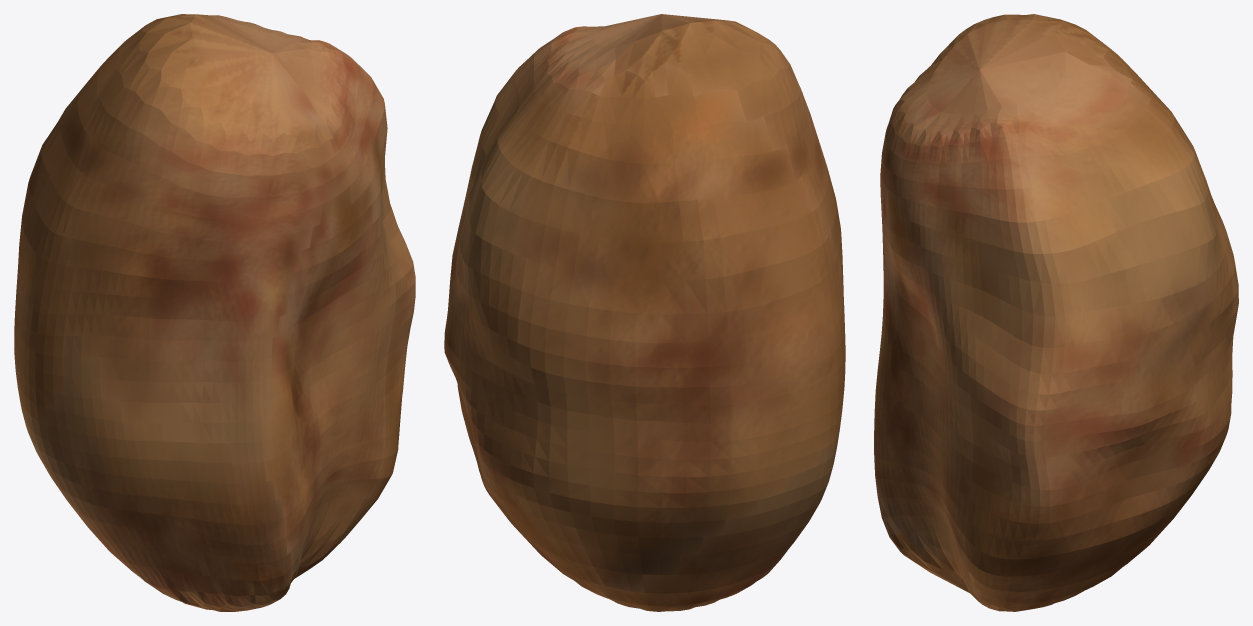
The model's file is potat.obj.
3 views of the same model, side by side, from view 1: azimuth 30°, elevation 25°; view 2: azimuth 150°, elevation 25°; view 3: azimuth 270°, elevation 25° (orthographic). The views are drawn at different scales.
Visible parts, largest first — view 1: Sphere; view 2: Sphere; view 3: Sphere.
Part boxes in pixels (x1,y1,x2,y2): Sphere: (14, 14, 415, 611); Sphere: (444, 14, 845, 611); Sphere: (874, 14, 1238, 611).
Size of the model in its own units: 1.48 by 2.17 by 1.28.
